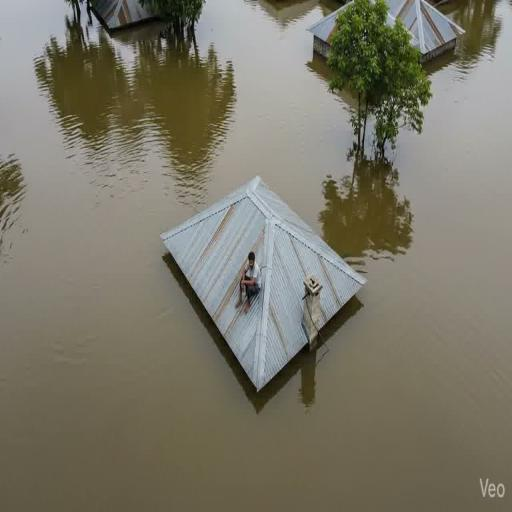human: (228, 230, 266, 313)
